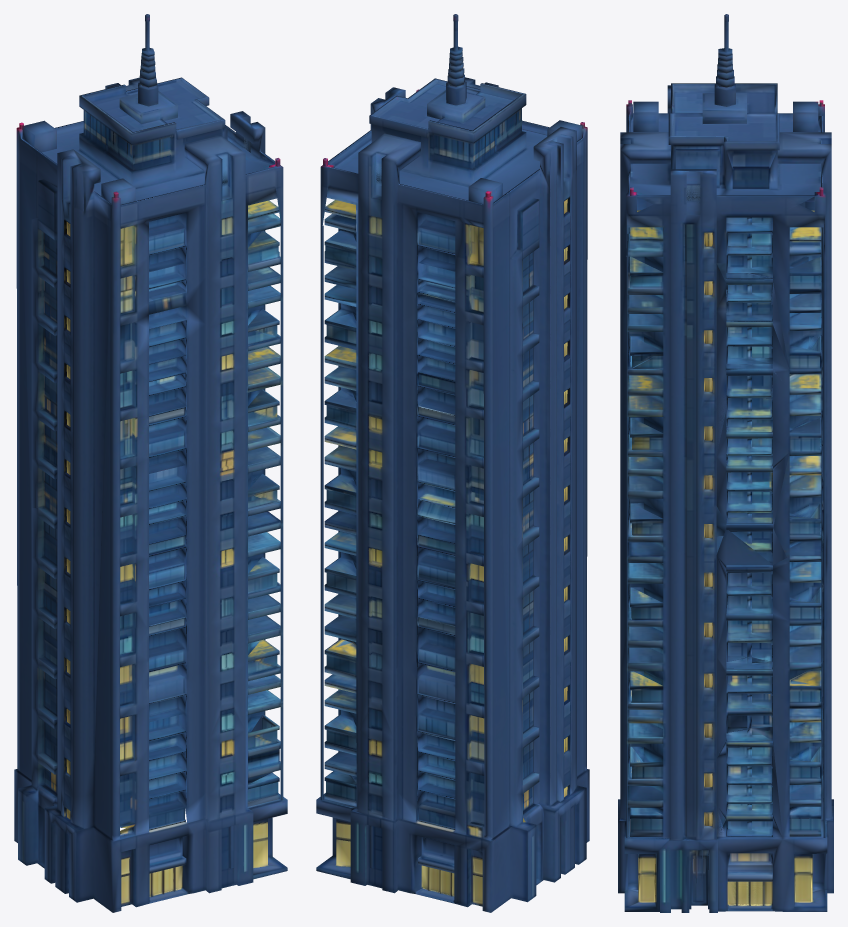
Rendered from c_slim.glb.
3 views of the same model, side by side, from view 1: azimuth 30°, elevation 25°; view 2: azimuth 150°, elevation 25°; view 3: azimuth 270°, elevation 25° (orthographic).
Visible parts, largest first — view 1: tripo_node_047c5fc0-2e11-40d7-bfb2-f32b0ee55a22; view 2: tripo_node_047c5fc0-2e11-40d7-bfb2-f32b0ee55a22; view 3: tripo_node_047c5fc0-2e11-40d7-bfb2-f32b0ee55a22.
Boxes of the visible parts, x1,y1,x2,y2 form: tripo_node_047c5fc0-2e11-40d7-bfb2-f32b0ee55a22: [14, 14, 287, 912]; tripo_node_047c5fc0-2e11-40d7-bfb2-f32b0ee55a22: [316, 14, 589, 912]; tripo_node_047c5fc0-2e11-40d7-bfb2-f32b0ee55a22: [618, 14, 833, 912].
Size of the model in its own units: 0.2397 by 0.9995 by 0.229.
1 material, 1 textured.
